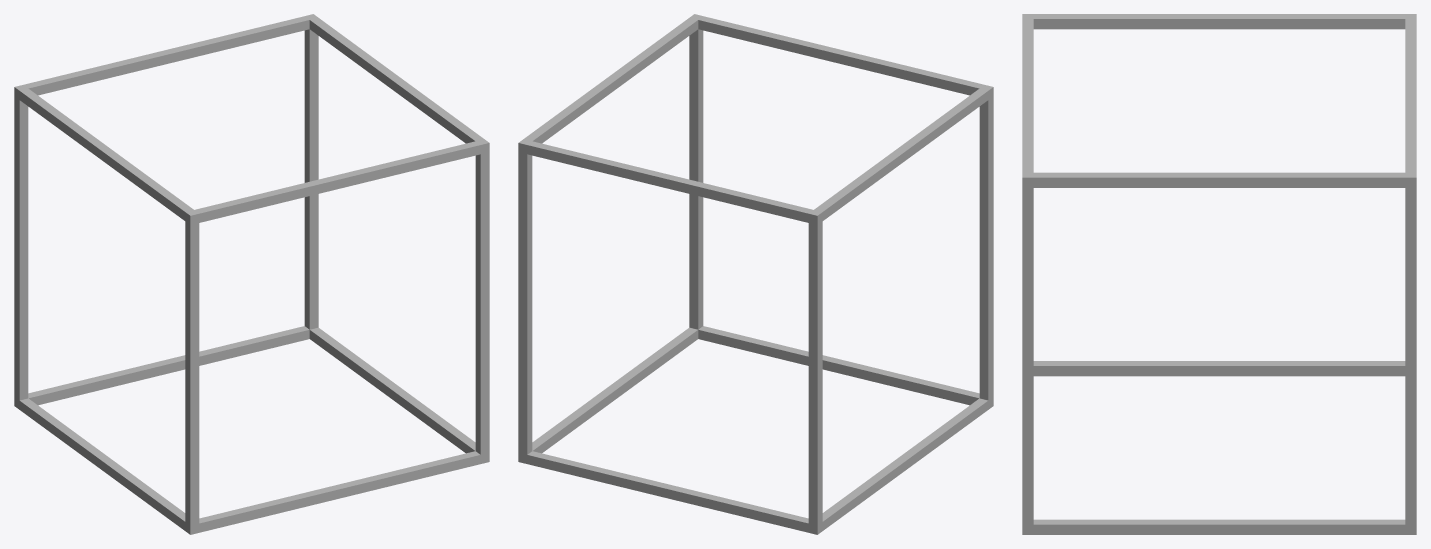
Rendered from SimpleBox05.fbx.
3 renders of one model, left to right at view 1: azimuth 30°, elevation 25°; view 2: azimuth 150°, elevation 25°; view 3: azimuth 270°, elevation 25°, orthographic. The views are drawn at different scales.
Visible parts, largest first — view 1: SimpleBox05; view 2: SimpleBox05; view 3: SimpleBox05.
Boxes of the visible parts, x1=… form: SimpleBox05: x1=14, y1=14, x2=489, y2=534; SimpleBox05: x1=518, y1=14, x2=993, y2=534; SimpleBox05: x1=1022, y1=14, x2=1416, y2=534.
Size of the model in its own units: 0.5102 by 0.5202 by 0.5202.
